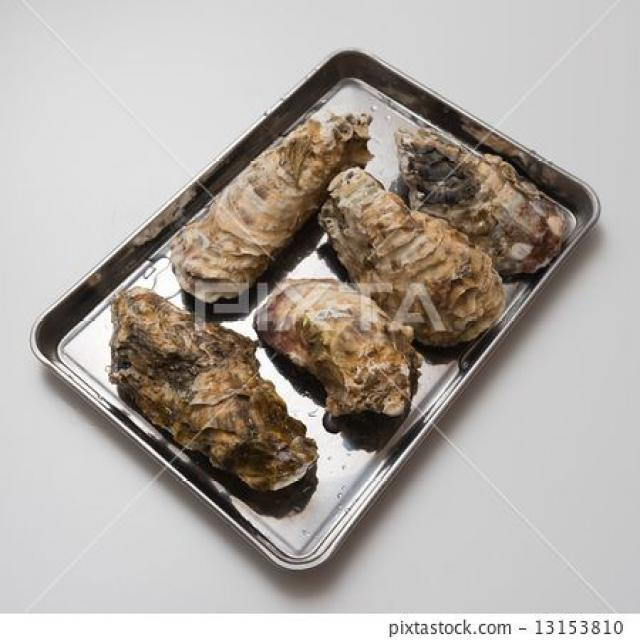Oyster- Indeterminate: (103, 284, 320, 500), (168, 107, 378, 306), (318, 162, 508, 360), (244, 272, 426, 433), (393, 123, 573, 284)
